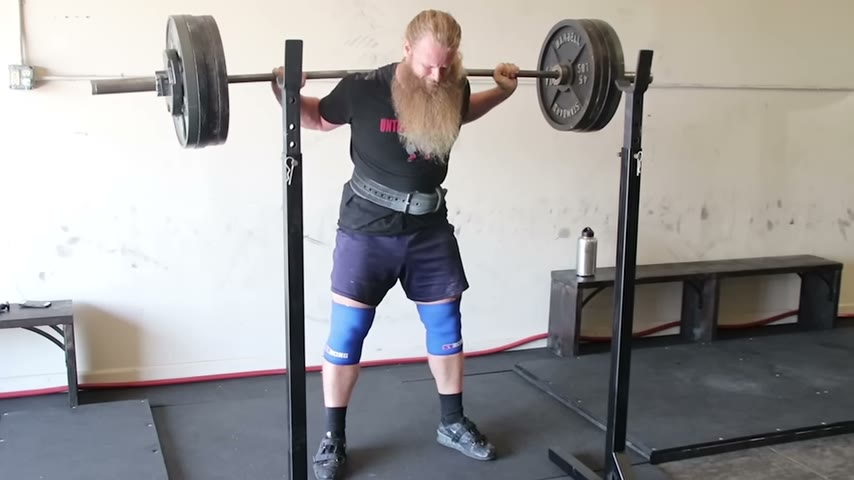barbell_plate_side: (546, 18, 658, 160)
